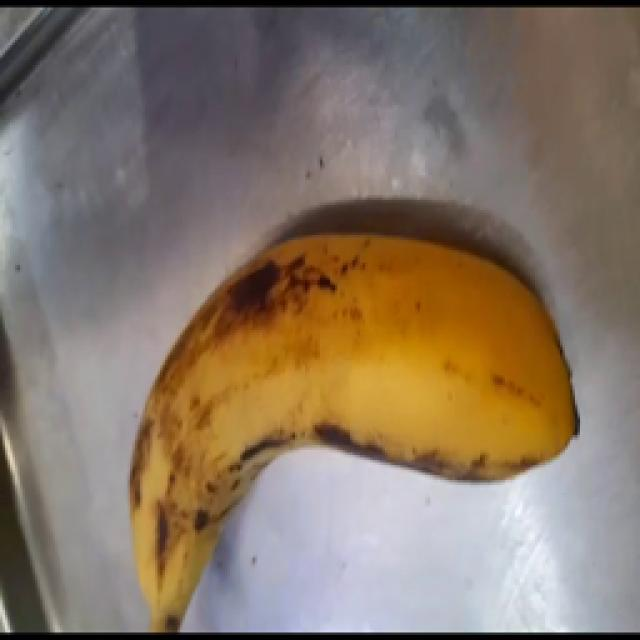Rotten_Banana: (27, 219, 640, 569)
